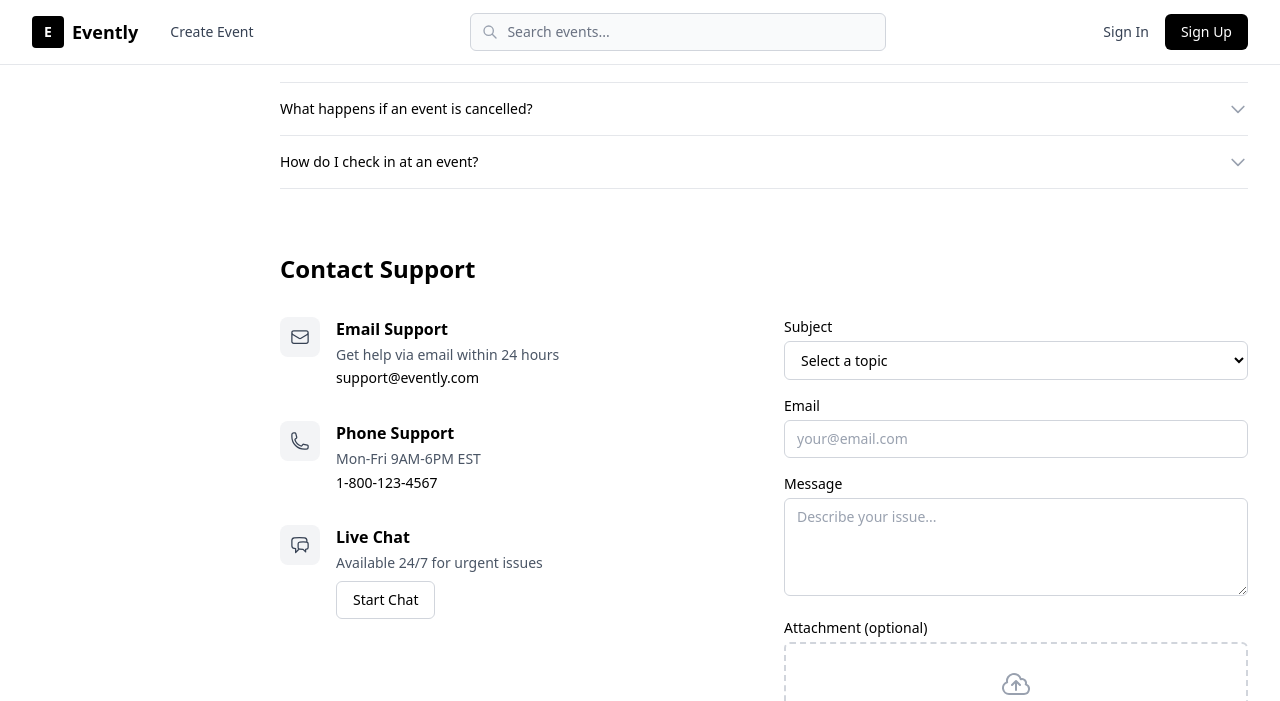
Test: HelpPage › shows error when submitting without email
(page scrolled)
Select "Bug Report" in the dropdown labelled "Subject". click: (1016, 360)
box: left=784, top=341, right=1248, bottom=380
(page scrolled)
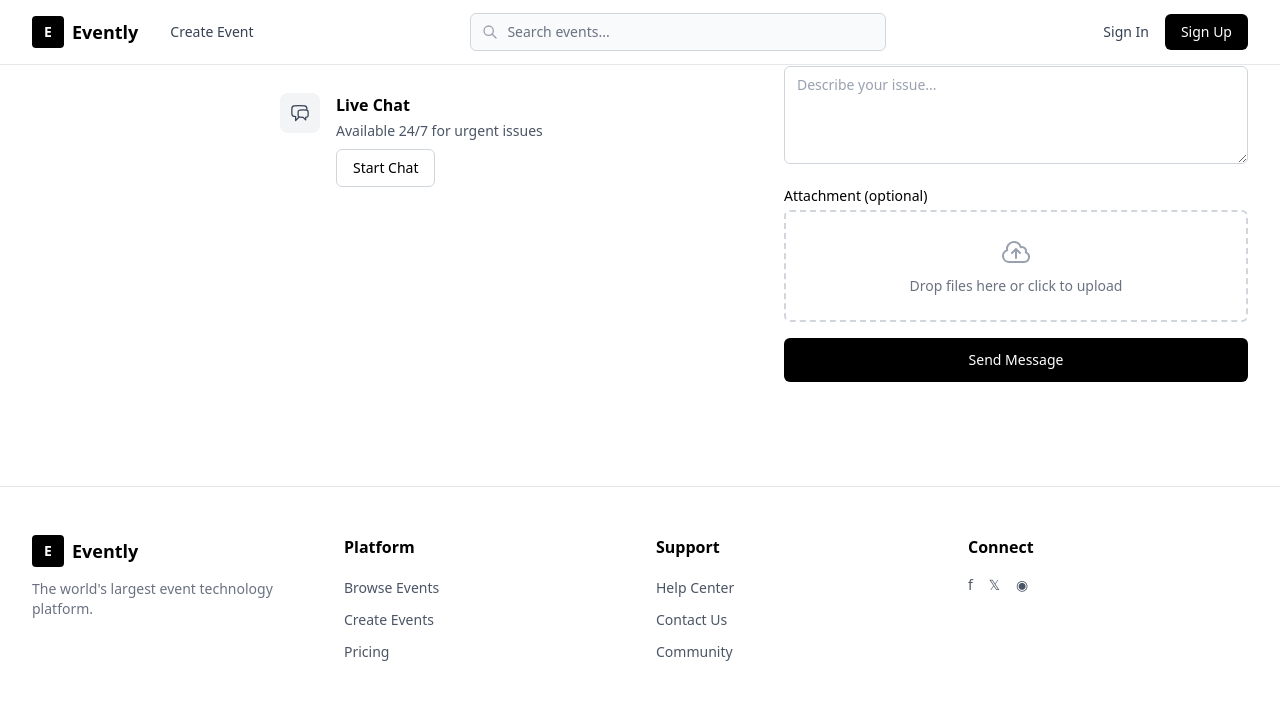
Click the button "Send Message". click: (1016, 360)
box: left=784, top=338, right=1248, bottom=382
(page scrolled)
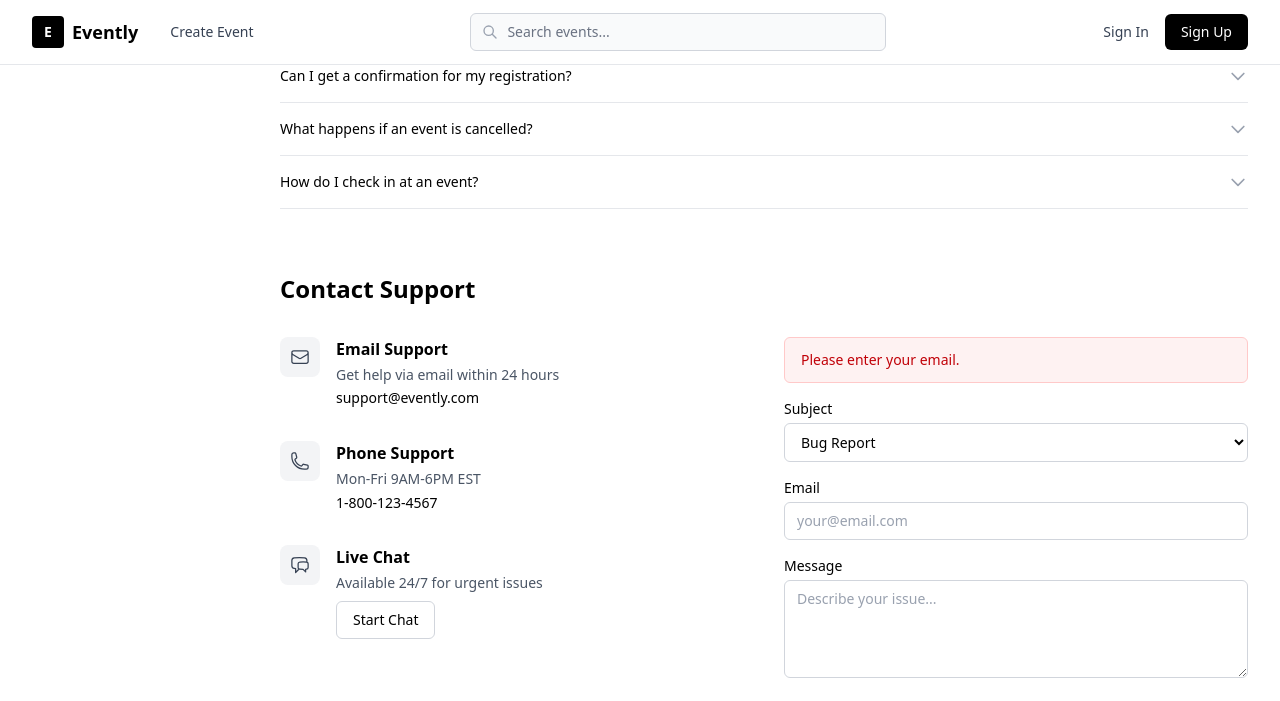
Result: the text "Please enter your email." is shown at left=784, top=337, right=1248, bottom=383
